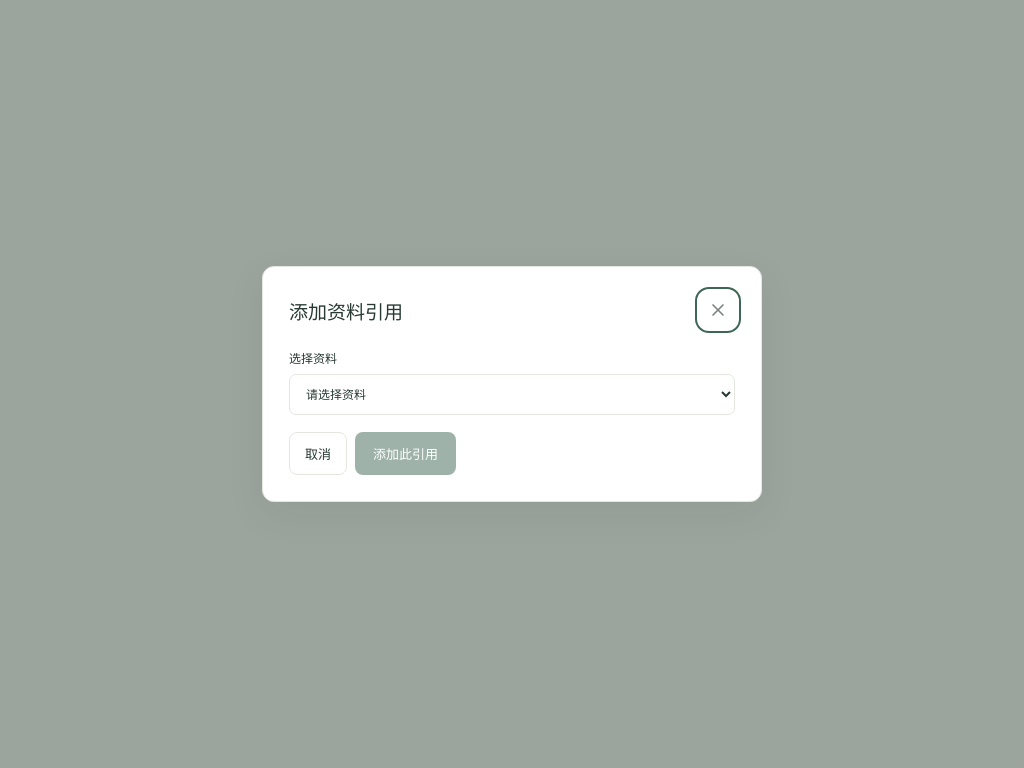
shows unit request failures and cannot add stale references
Select "[资料] One ·" in the dropdown labelled "选择资料" at (512, 394), box [289,374,735,415]
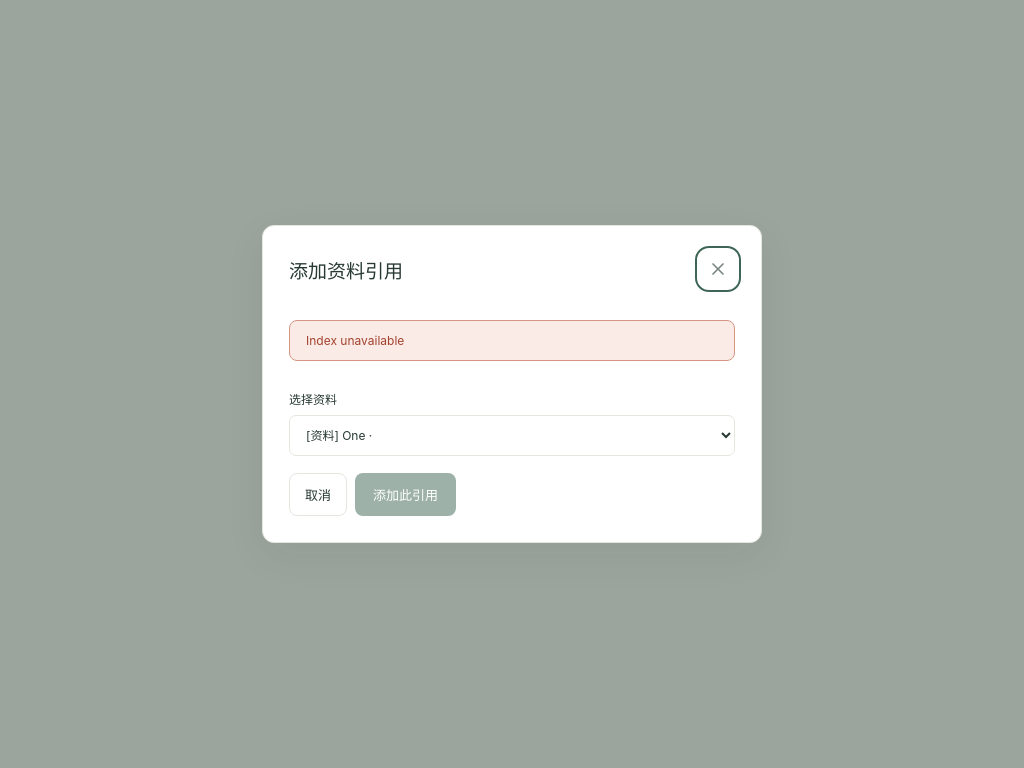
Expected: the button "添加此引用" is disabled, [355,473,456,516]
Expected: the message reads "Index unavailable", [306,333,404,348]
